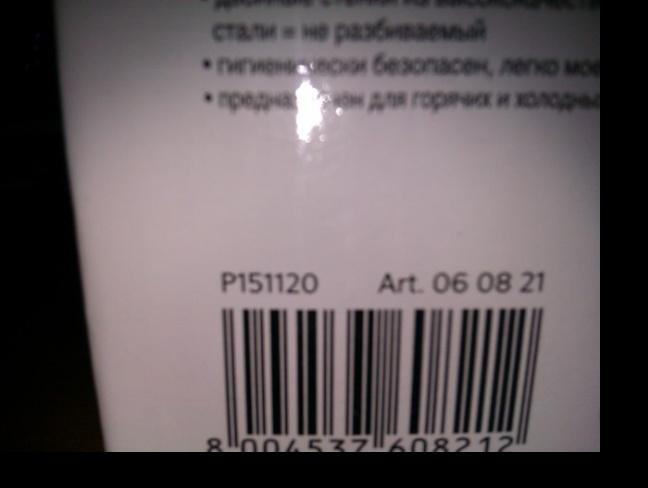Barcode: (201, 302, 549, 454)
